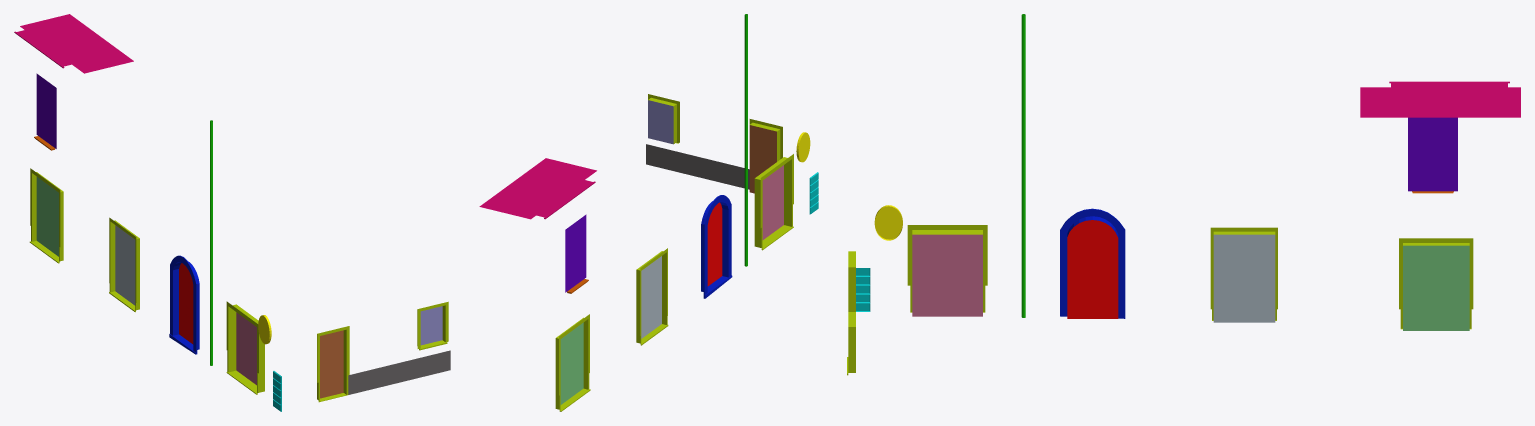
The model's file is Building8b.fbx.
3 views of the same model, side by side, from view 1: azimuth 30°, elevation 25°; view 2: azimuth 150°, elevation 25°; view 3: azimuth 270°, elevation 25° (orthographic). The views are drawn at different scales.
Parts seen in each view (by area): view 1: Building8b.001; view 2: Building8b.001; view 3: Building8b.001.
Boxes of the visible parts, x1,y1,x2,y2 form: Building8b.001: (14, 14, 450, 411); Building8b.001: (479, 14, 818, 411); Building8b.001: (847, 14, 1520, 375).
Size of the model in its own units: 634 by 894 by 1737.
